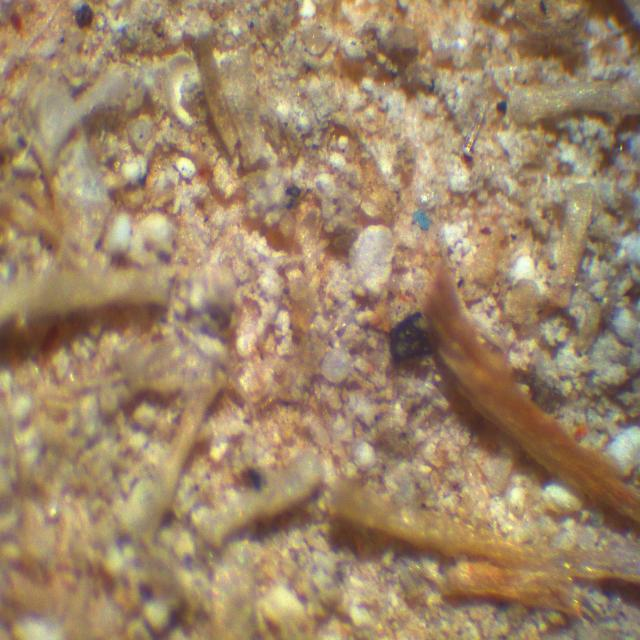microplastic: (411, 209, 431, 232)
